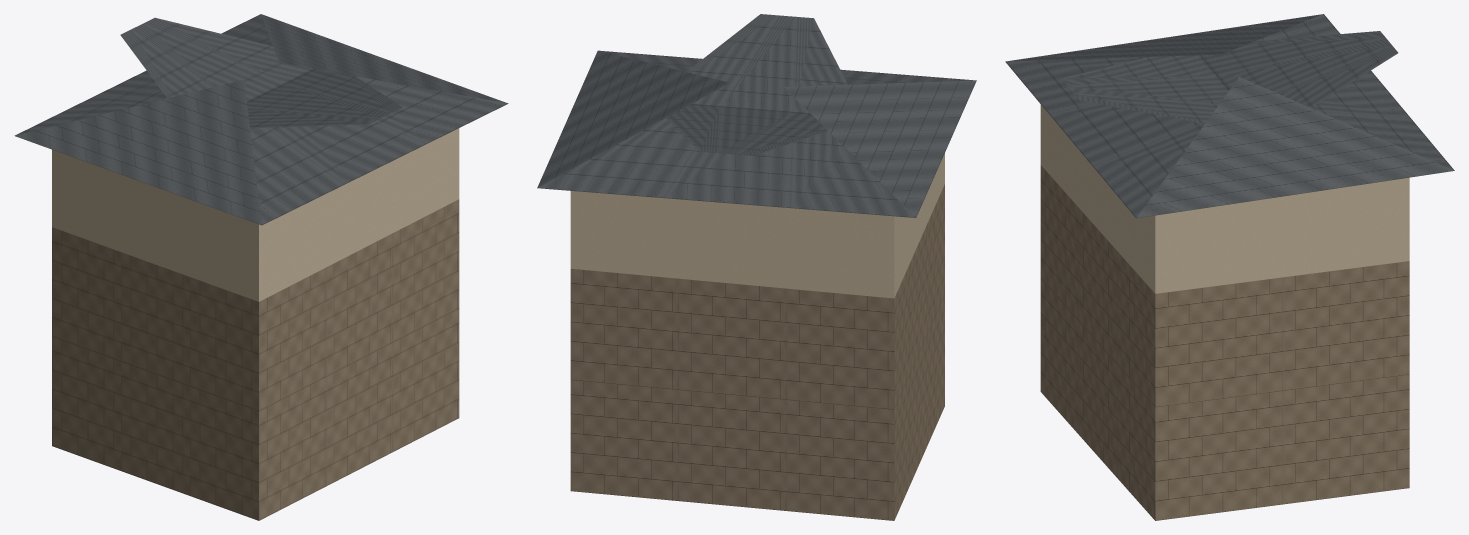
The model's file is bld_c42_32_265.gltf.
3 views of the same model, side by side, from view 1: azimuth 30°, elevation 25°; view 2: azimuth 150°, elevation 25°; view 3: azimuth 270°, elevation 25° (orthographic). The views are drawn at different scales.
Parts seen in each view (by area): view 1: bld_c42_32_265; view 2: bld_c42_32_265; view 3: bld_c42_32_265.
Boxes of the visible parts, bbox=[...] form: bld_c42_32_265: bbox=[14, 14, 508, 520]; bld_c42_32_265: bbox=[537, 14, 976, 520]; bld_c42_32_265: bbox=[1005, 14, 1454, 520].
Bounding box in the file's own units: 8.69 × 7.4 × 8.08.
Materials: 3 (3 with a texture image).
